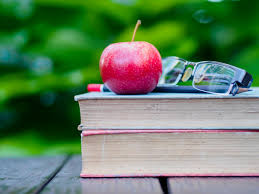apple: (97, 39, 163, 94)
